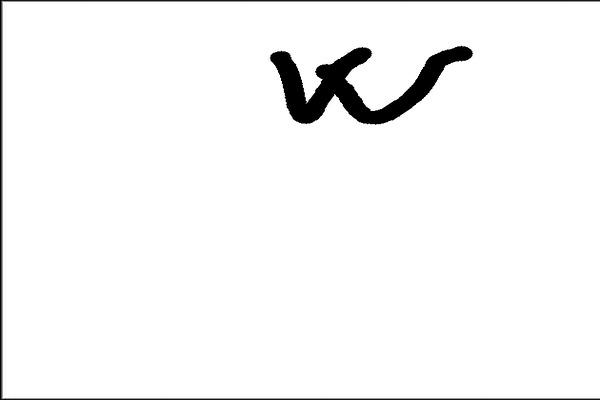w: (254, 30, 484, 152)
